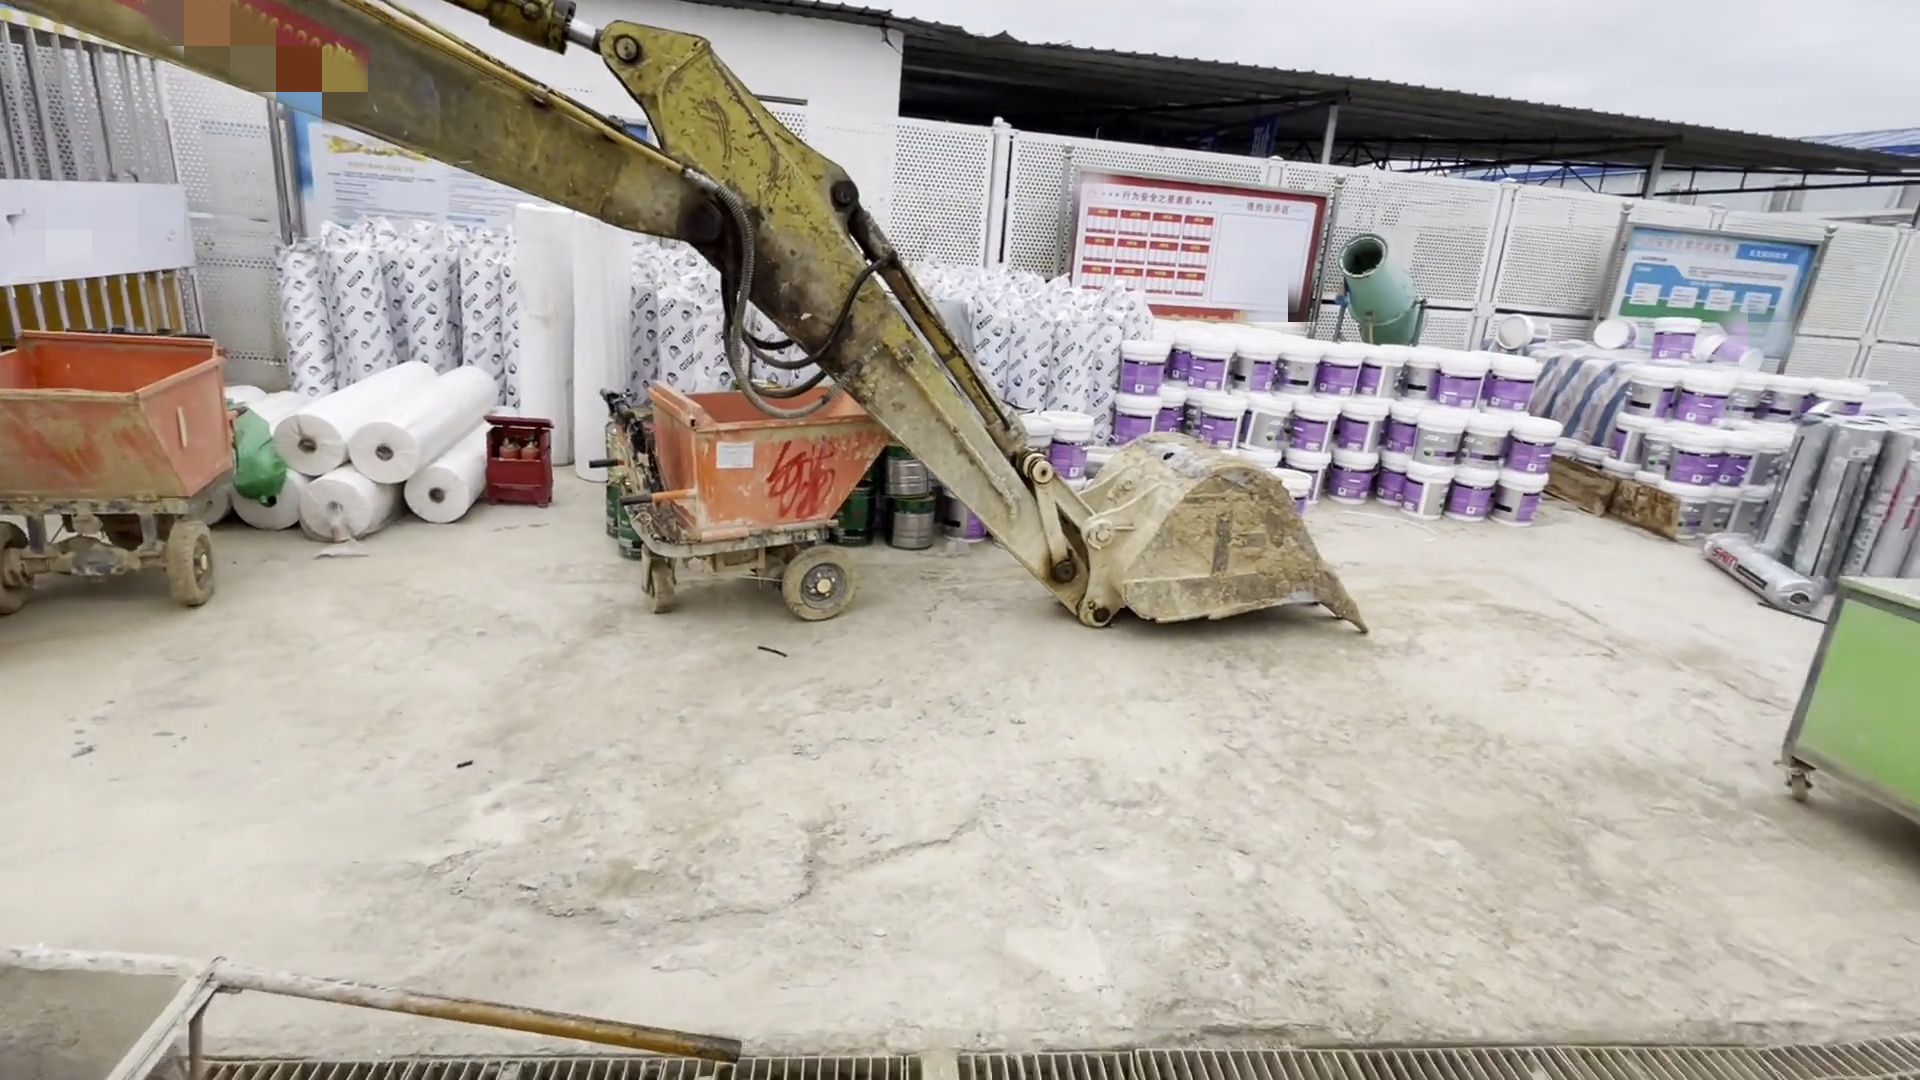hopper: (4, 316, 249, 633), (603, 394, 906, 636)
